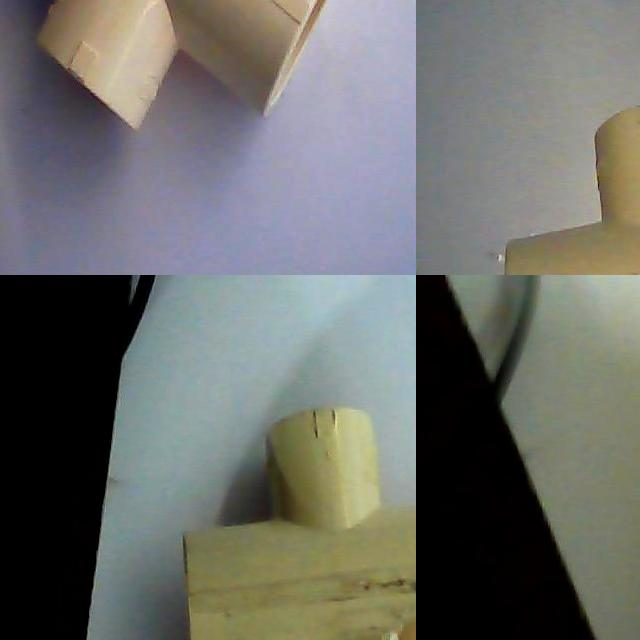Defective: (371, 567, 416, 640)
T Joint: (183, 408, 416, 640), (38, 0, 332, 132)
